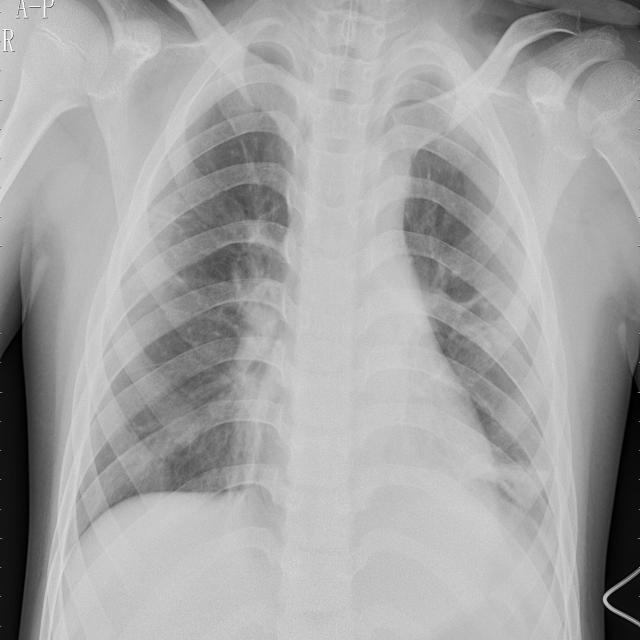low-pneumonia: (222, 229, 281, 449)
